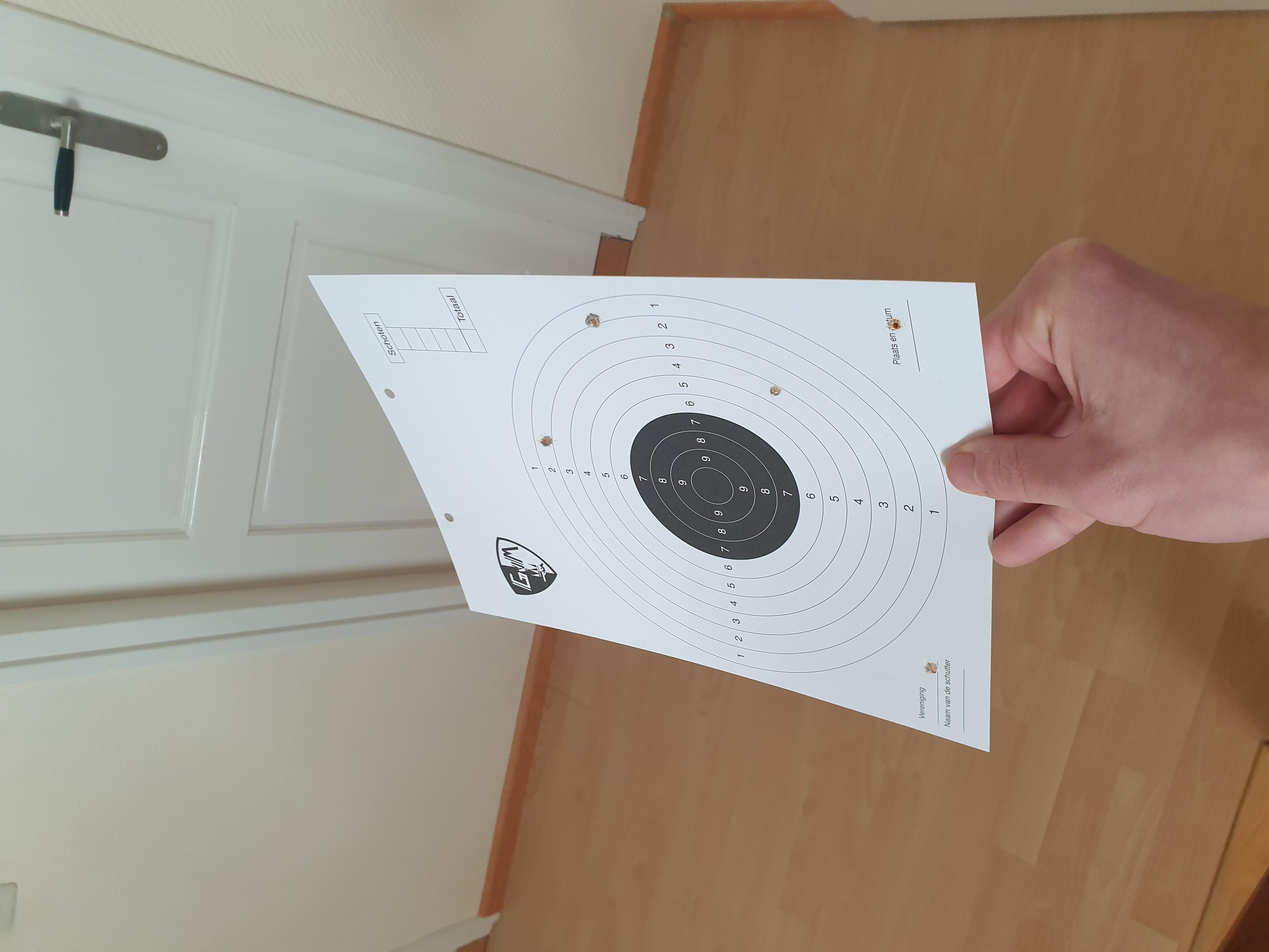hole: (537, 434, 557, 448), (584, 313, 602, 328), (923, 660, 939, 675), (888, 318, 902, 332), (770, 385, 782, 396)
